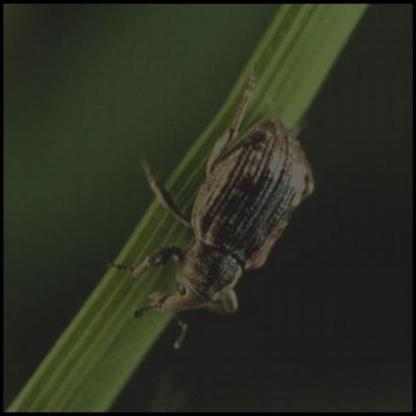rice-bug: (136, 86, 317, 332)
